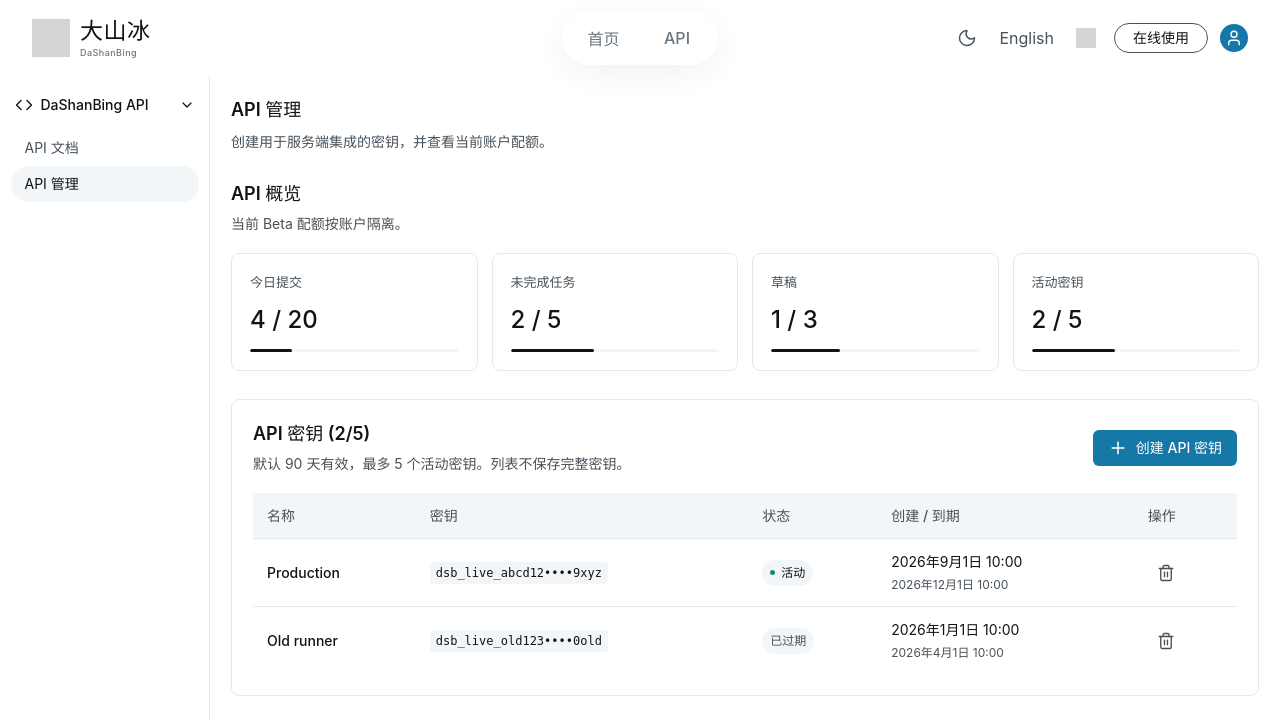
Test: API center › keeps API-key creation failures announced inside the active dialog
Click the button "创建 API 密钥" at (1165, 448), box [1093,430,1237,466]
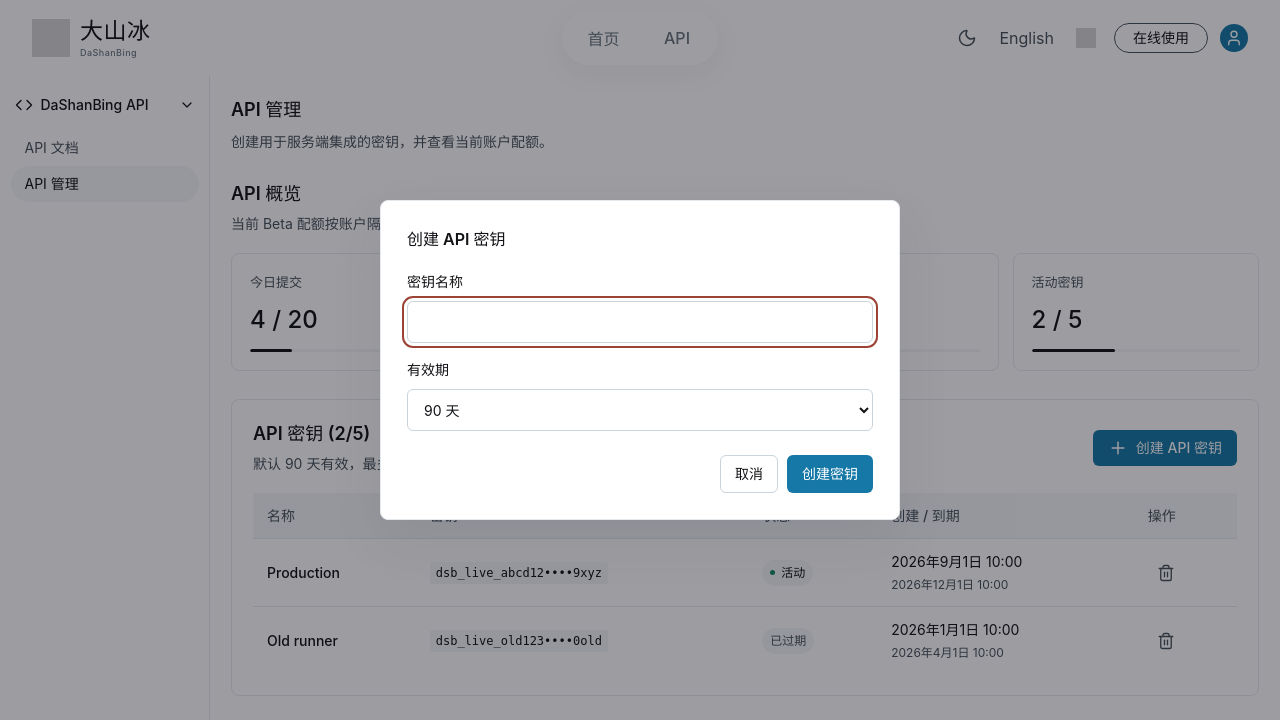
Type "CI runner" into the field labelled "密钥名称" at (640, 322), box [407,301,873,343]
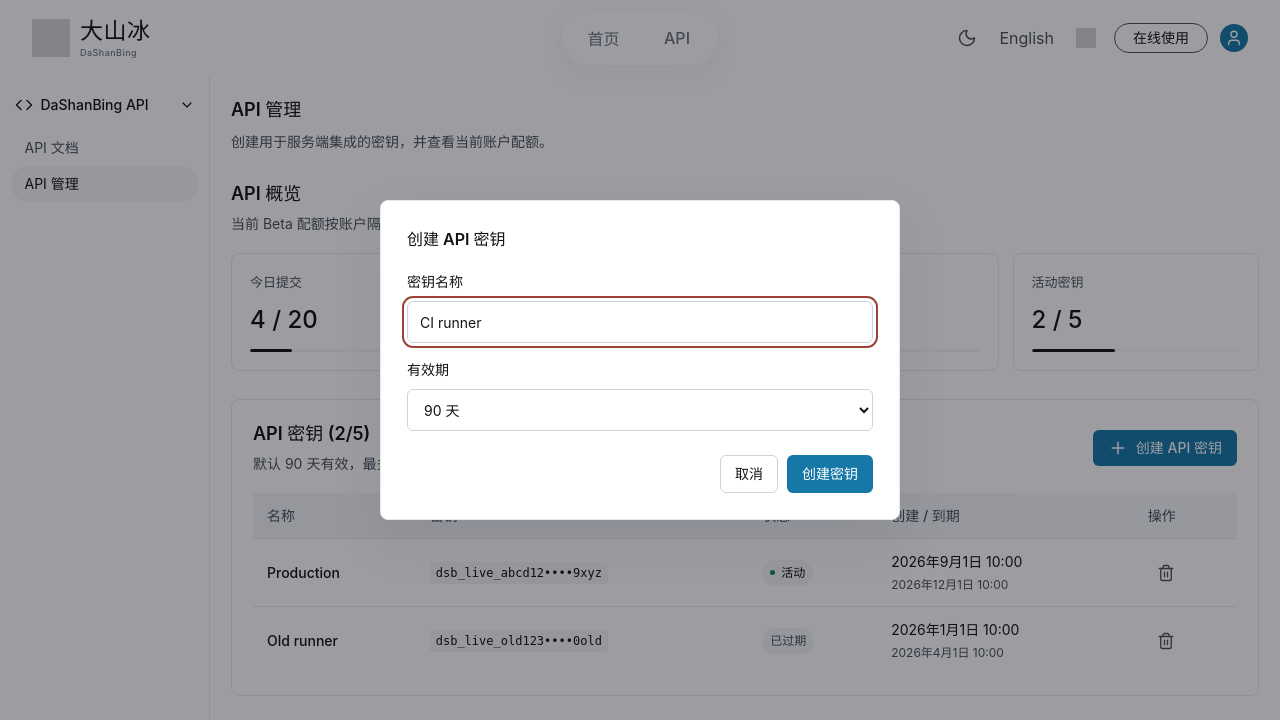
Click the button "创建密钥" at (830, 474), box [787,455,873,493]
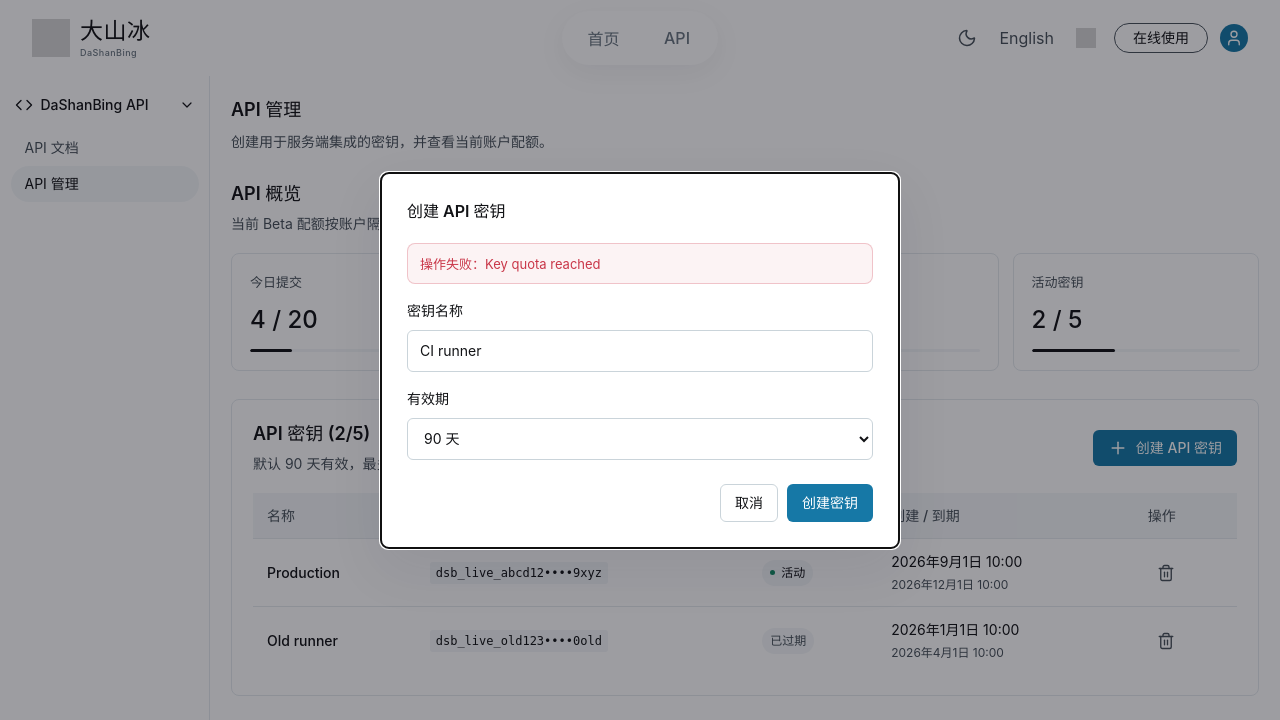
Now the message shows "Key quota reached", box [420,256,601,272]
